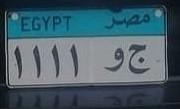1: (29, 45, 45, 80), (67, 41, 82, 77), (48, 42, 62, 79), (12, 45, 25, 80)
jeem: (127, 43, 150, 76)
waw: (104, 44, 124, 75)
